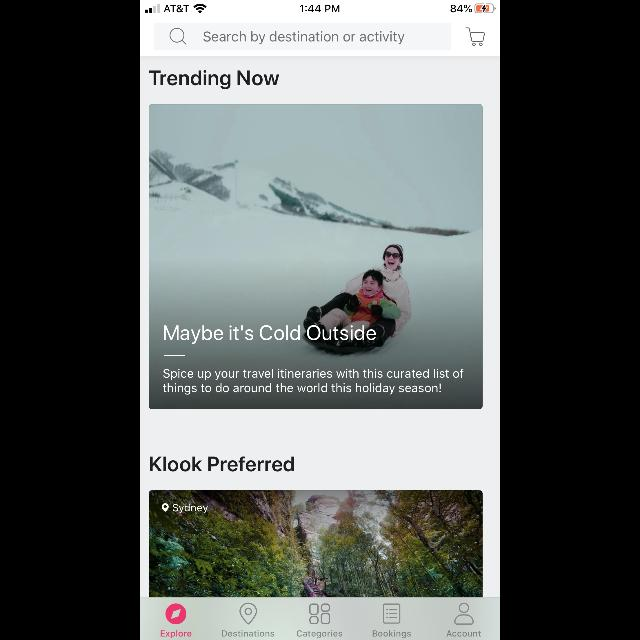icon: (454, 603, 474, 625), (166, 604, 187, 624), (310, 604, 330, 624), (240, 602, 256, 624), (384, 603, 401, 623), (466, 28, 484, 46), (170, 29, 187, 45), (162, 504, 170, 512)
image: (150, 104, 482, 410), (150, 490, 482, 598)
input: (154, 24, 452, 51)
text: (163, 369, 463, 395), (164, 326, 376, 344), (149, 70, 279, 90), (204, 32, 404, 44), (150, 456, 294, 472), (172, 503, 208, 513), (298, 630, 342, 638), (222, 630, 274, 636), (373, 630, 411, 638), (160, 630, 192, 638), (446, 630, 480, 636)
uppertaskbar: (140, 0, 500, 14)
